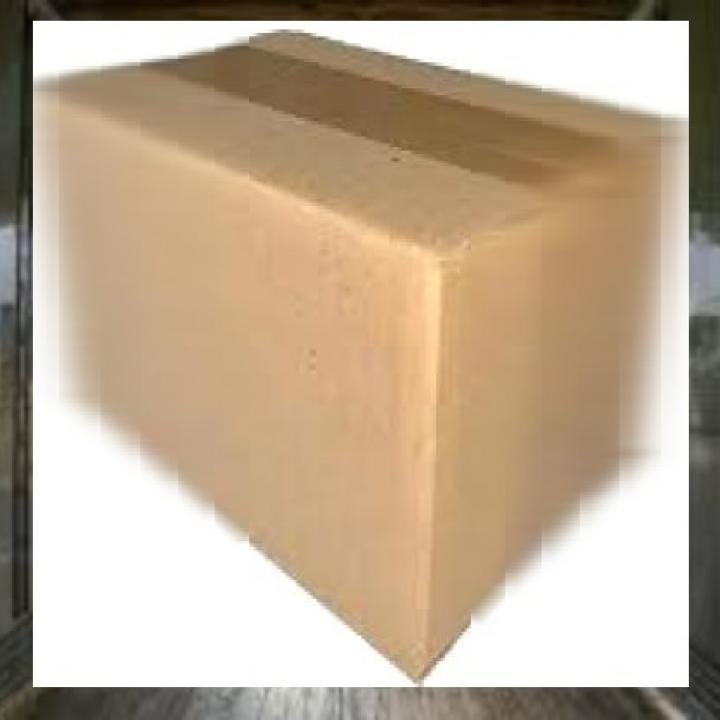box: (23, 12, 700, 698)
